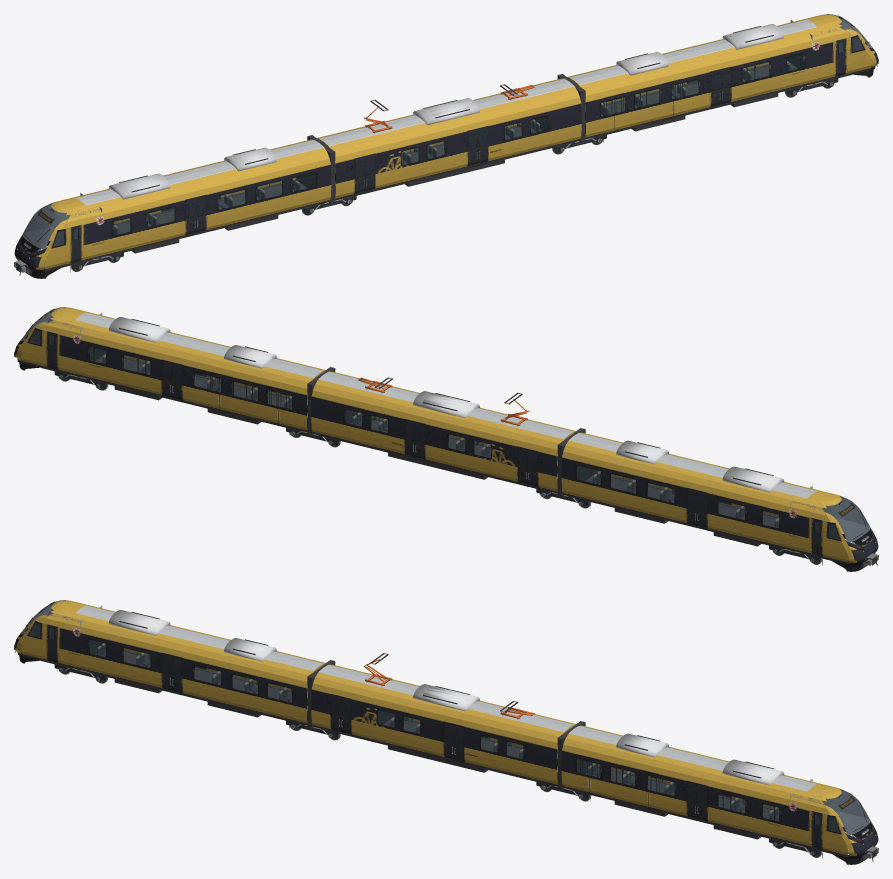
Rendered from IMPZ.glb.
3 views of the same model, one above another, from view 1: azimuth 30°, elevation 25°; view 2: azimuth 150°, elevation 25°; view 3: azimuth 330°, elevation 25° (orthographic).
Parts seen in each view (by area): view 1: IMP_czlon1, IMP_czlon3, IMP_czlon2, Szyby boczne i uszczelki, IMP_dach, Wnętrze pasażerskie, IMP_guma, IMP_rama, KABINA_WN_0, SZYBA_CZ_0, IMP_harm, Szyby boczne kabin, reflektory i wyświetlacze GOLD; view 2: IMP_czlon1, IMP_czlon3, IMP_czlon2, Szyby boczne i uszczelki, IMP_dach, Wnętrze pasażerskie, IMP_guma, IMP_rama, KABINA_WN_0, SZYBA_CZ_0, IMP_harm, Szyby boczne kabin, reflektory i wyświetlacze GOLD; view 3: IMP_czlon3, IMP_czlon1, IMP_czlon2, Szyby boczne i uszczelki, IMP_dach, Wnętrze pasażerskie, IMP_guma, IMP_rama, KABINA_WN_1, SZYBA_CZ_1, IMP_harm, Szyby boczne kabin, reflektory i wyświetlacze GOLD.
Boxes of the visible parts, <box> form: IMP_czlon1: <box>14,139,331,271</box>; IMP_czlon3: <box>567,14,878,139</box>; IMP_czlon2: <box>317,78,581,200</box>; Szyby boczne i uszczelki: <box>113,53,803,235</box>; IMP_dach: <box>108,24,784,199</box>; Wnętrze pasażerskie: <box>114,54,802,235</box>; IMP_guma: <box>17,52,877,275</box>; IMP_rama: <box>62,26,851,267</box>; KABINA_WN_0: <box>22,204,100,248</box>; SZYBA_CZ_0: <box>22,203,70,249</box>; IMP_harm: <box>307,74,585,203</box>; Szyby boczne kabin, reflektory i wyświetlacze GOLD: <box>18,15,873,254</box>; IMP_czlon1: <box>561,432,878,564</box>; IMP_czlon3: <box>14,307,325,432</box>; IMP_czlon2: <box>311,371,575,493</box>; Szyby boczne i uszczelki: <box>89,346,779,528</box>; IMP_dach: <box>108,317,784,492</box>; Wnętrze pasażerskie: <box>90,347,778,528</box>; IMP_guma: <box>87,345,877,565</box>; IMP_rama: <box>41,319,830,560</box>; KABINA_WN_0: <box>793,497,870,541</box>; SZYBA_CZ_0: <box>822,496,870,542</box>; IMP_harm: <box>307,367,585,496</box>; Szyby boczne kabin, reflektory i wyświetlacze GOLD: <box>19,308,874,547</box>; IMP_czlon3: <box>561,725,878,857</box>; IMP_czlon1: <box>14,600,325,725</box>; IMP_czlon2: <box>311,664,575,786</box>; Szyby boczne i uszczelki: <box>89,639,779,821</box>; IMP_dach: <box>108,610,784,785</box>; Wnętrze pasażerskie: <box>90,640,778,821</box>; IMP_guma: <box>15,638,875,861</box>; IMP_rama: <box>41,612,845,853</box>; KABINA_WN_1: <box>792,790,870,834</box>; SZYBA_CZ_1: <box>822,789,870,835</box>; IMP_harm: <box>307,660,585,789</box>; Szyby boczne kabin, reflektory i wyświetlacze GOLD: <box>19,601,874,840</box>.
Size of the model in its own units: 58.4 by 5.6 by 2.97.
Materials: 52 (6 with a texture image).
